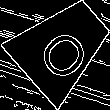O_NE: (30, 13, 95, 80)
